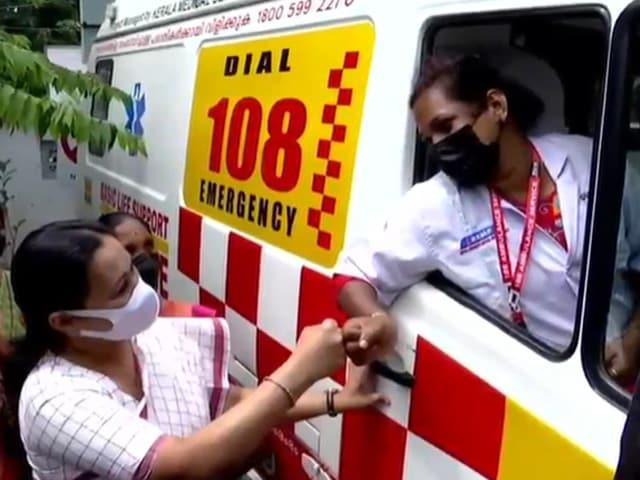ER: (73, 0, 609, 480)
